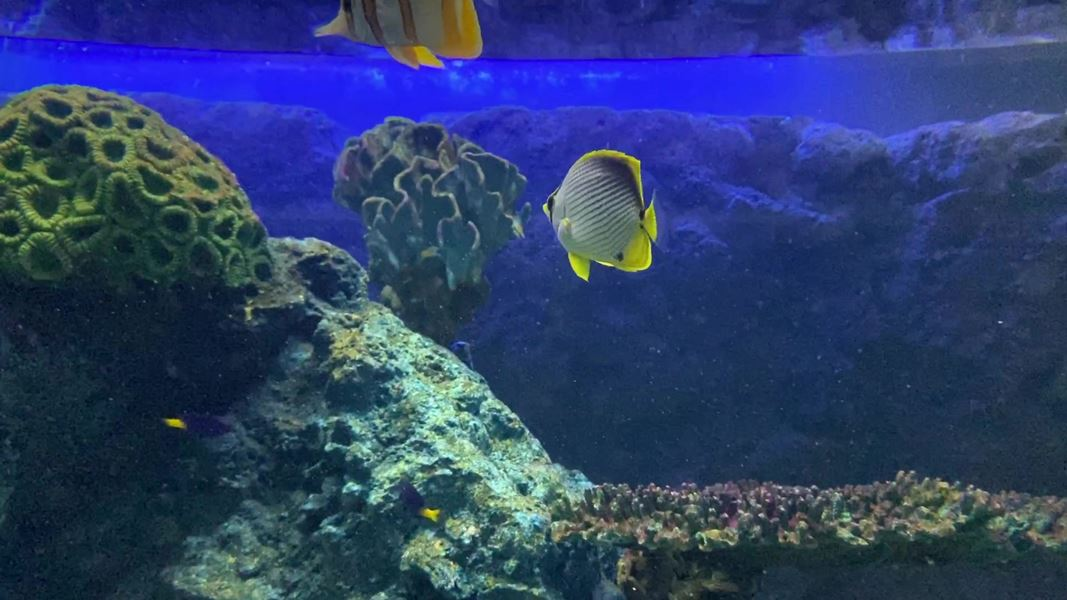Black-backed butterflyfish: (532, 140, 683, 293)
